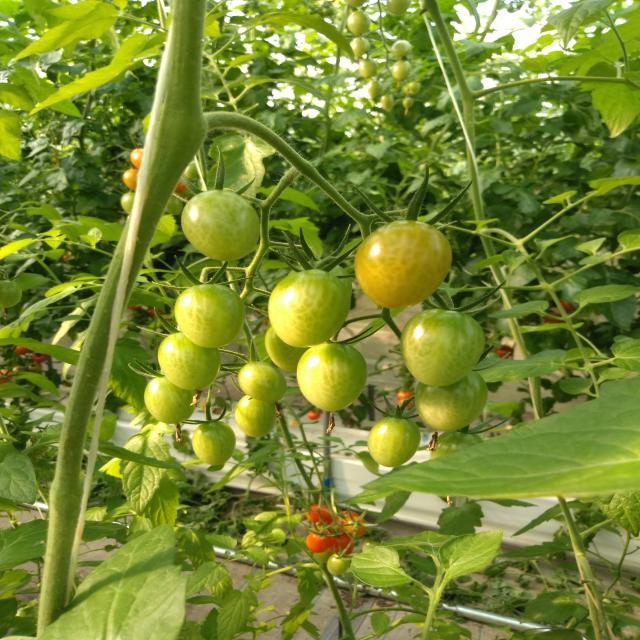yesil: (174, 185, 370, 422)
